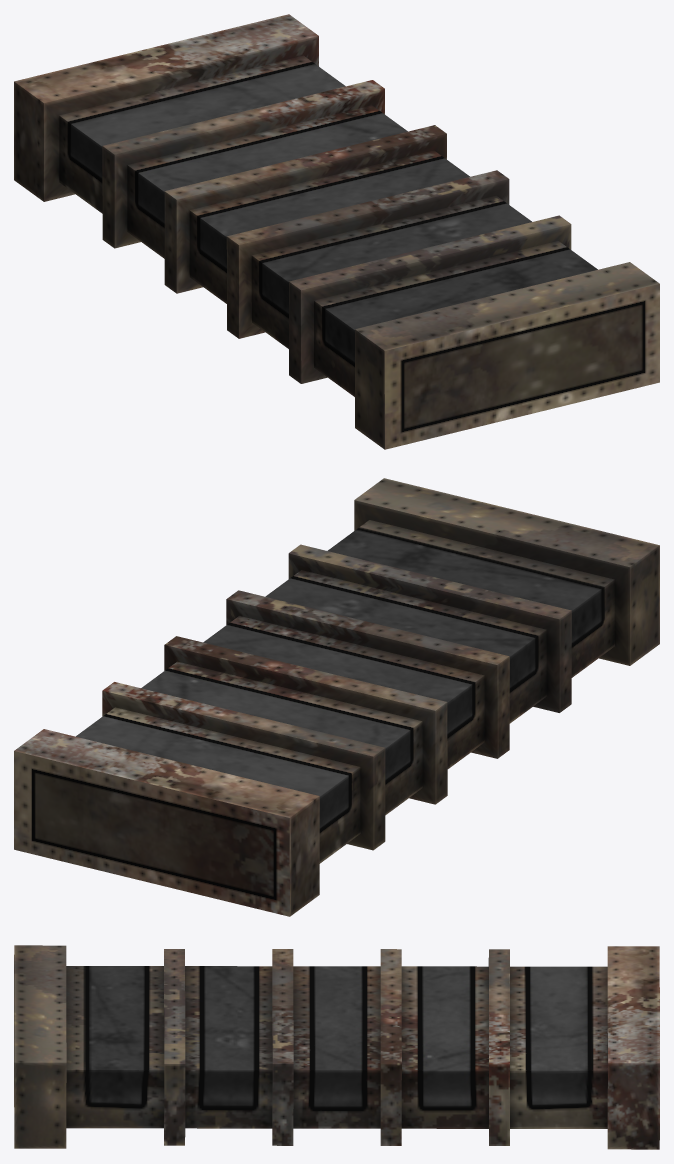
The model's file is rubble_box_1x2.dae.
The picture shows the model from 3 angles, top to bottom: view 1: azimuth 30°, elevation 25°; view 2: azimuth 150°, elevation 25°; view 3: azimuth 270°, elevation 25°; orthographic projection. The views are drawn at different scales.
Visible parts, largest first — view 1: rubble_box_1x2; view 2: rubble_box_1x2; view 3: rubble_box_1x2.
Part boxes in pixels (x1=…): rubble_box_1x2: x1=14, y1=14, x2=659, y2=449; rubble_box_1x2: x1=14, y1=478, x2=659, y2=916; rubble_box_1x2: x1=14, y1=945, x2=659, y2=1149.
Size of the model in its own units: 2.47 by 5.75 by 0.857.
Materials: 1 (1 with a texture image).
